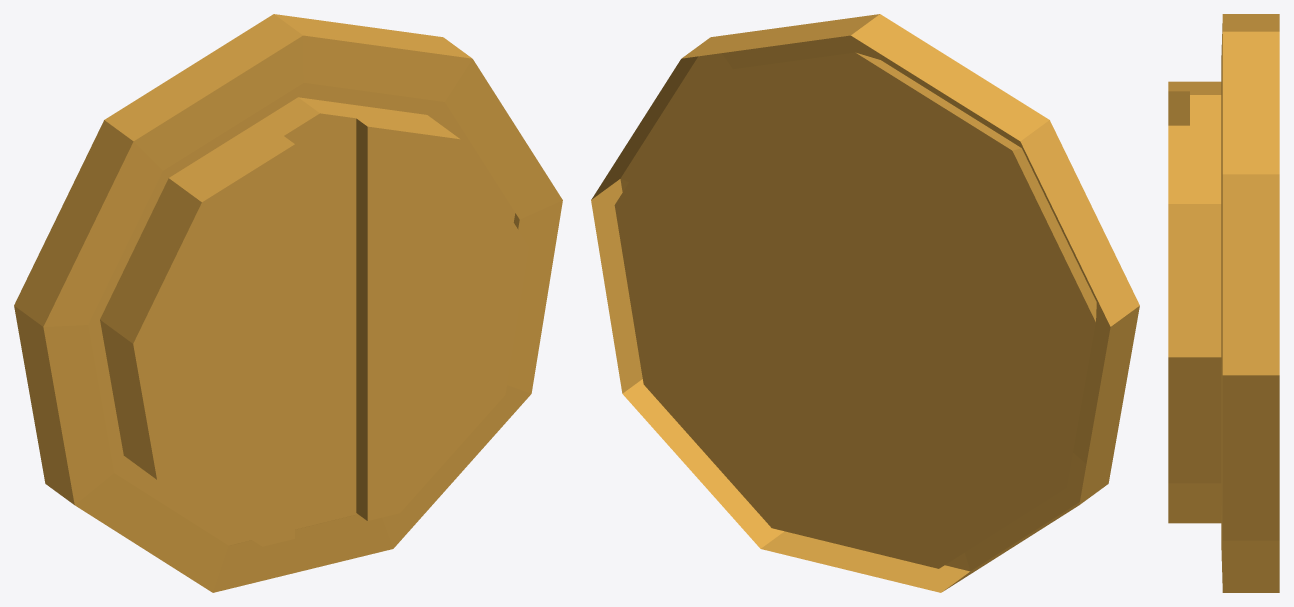
File: Obstacle_Clamp_UpperPart.fbx
3 renders of one model, left to right at view 1: azimuth 30°, elevation 25°; view 2: azimuth 150°, elevation 25°; view 3: azimuth 270°, elevation 25°, orthographic. The views are drawn at different scales.
Parts seen in each view (by area): view 1: Cylinder.002, Upper Part; view 2: Upper Part; view 3: Upper Part, Cylinder.002.
Boxes of the visible parts, x1,y1,x2,y2 form: Cylinder.002: (100, 97, 529, 546); Upper Part: (14, 14, 562, 592); Upper Part: (591, 14, 1139, 592); Upper Part: (1221, 14, 1279, 592); Cylinder.002: (1168, 81, 1221, 523).
Bounding box in the file's own units: 138 × 135 × 26.36.
